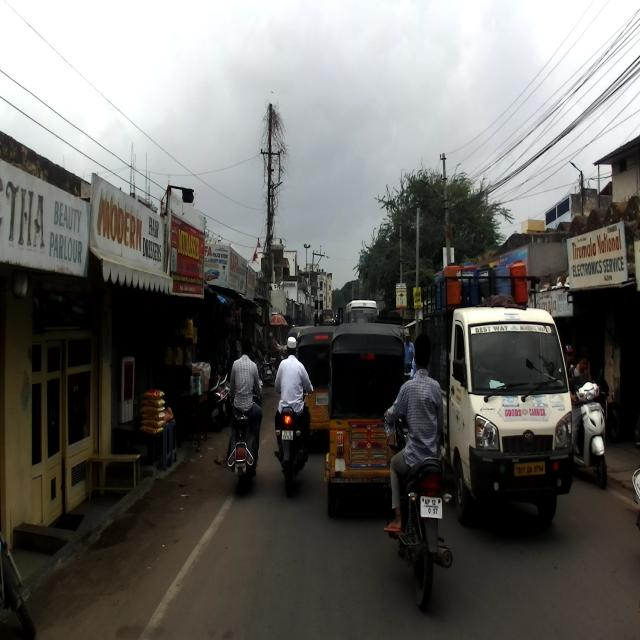autorickshaw: (324, 322, 406, 520)
motorcycle_Honda: (380, 414, 452, 610), (275, 388, 311, 496)
scooter: (569, 379, 610, 490), (226, 388, 264, 491)
truck: (420, 258, 572, 542)
